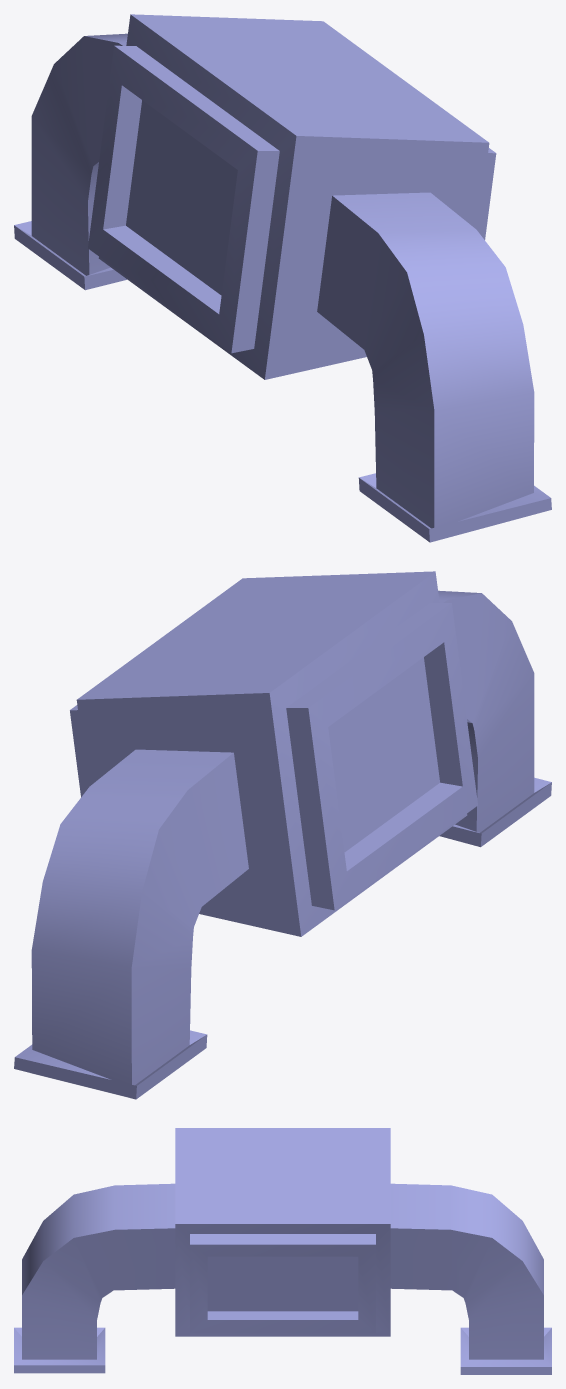
Rendered from Vent_Box.fbx.
3 renders of one model, top to bottom at view 1: azimuth 30°, elevation 25°; view 2: azimuth 150°, elevation 25°; view 3: azimuth 270°, elevation 25°, orthographic. The views are drawn at different scales.
Parts seen in each view (by area): view 1: Cube; view 2: Cube; view 3: Cube.
Part boxes in pixels (box(x1,y1,x2,y2)): Cube: box(14, 14, 551, 542); Cube: box(14, 571, 551, 1099); Cube: box(14, 1128, 551, 1374).
Size of the model in its own units: 435 by 498 by 1179.
